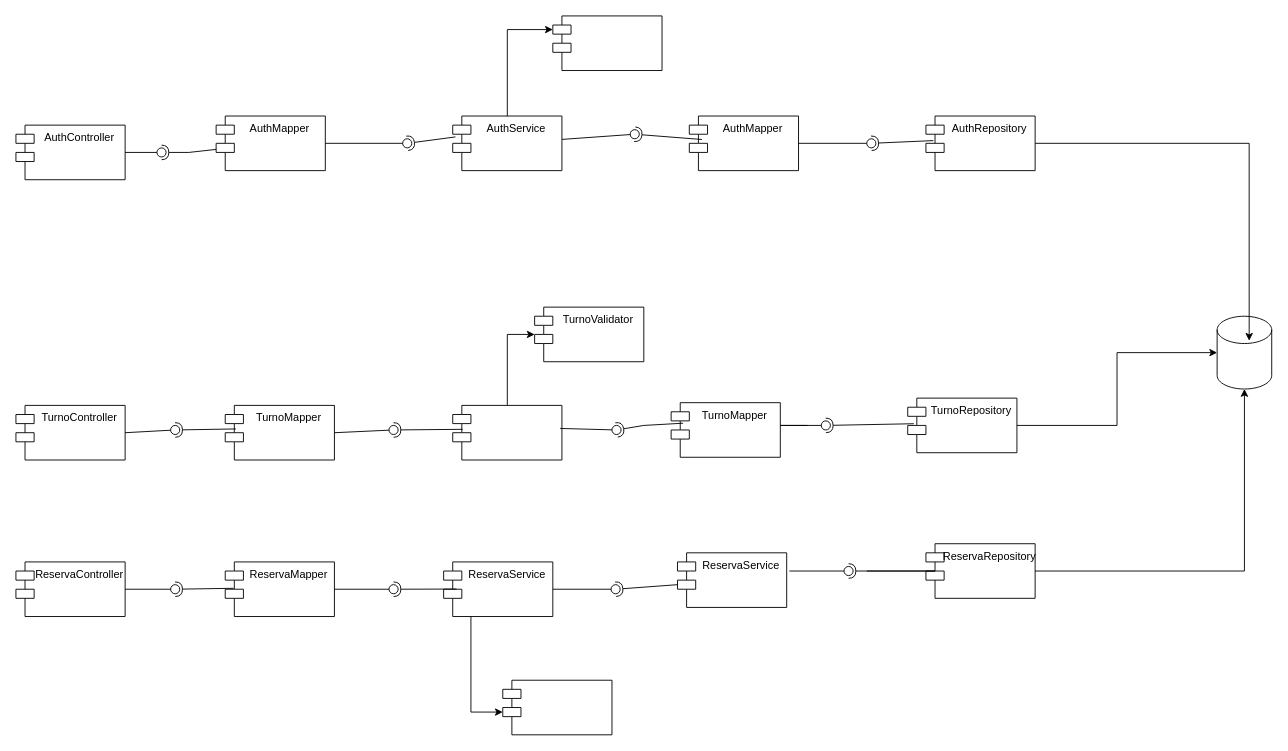
This 1288x751 diagram has some shape labels left out. The shapes that lost their labels are listed below. From the top down, each one's box as (x1, y1, x2, y2) in pixels, then its label:
(552, 15, 662, 71): AuthValidator
(1216, 315, 1272, 389): DB
(452, 404, 562, 460): TurnoService
(502, 679, 612, 735): ReservaValidator
